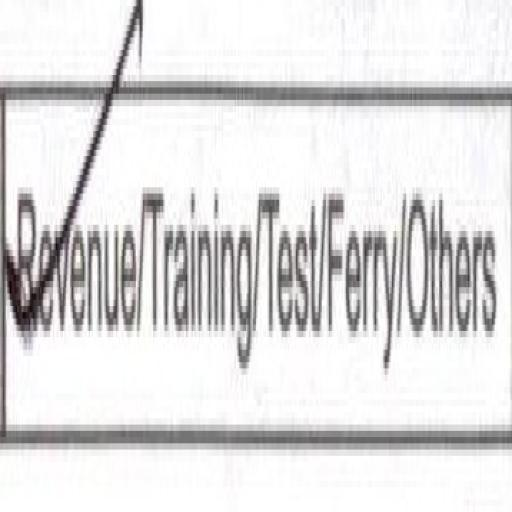check: (2, 46, 138, 441)
